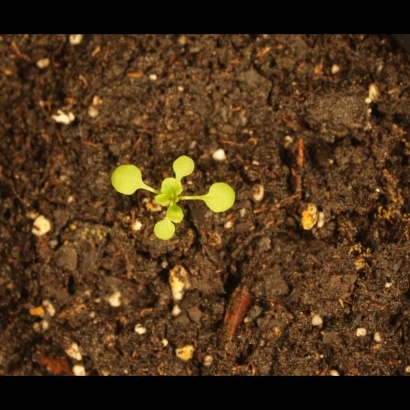leaf: (201, 176, 239, 215), (105, 163, 147, 198), (171, 151, 198, 181), (162, 202, 193, 227), (158, 176, 189, 200), (150, 218, 177, 244)
